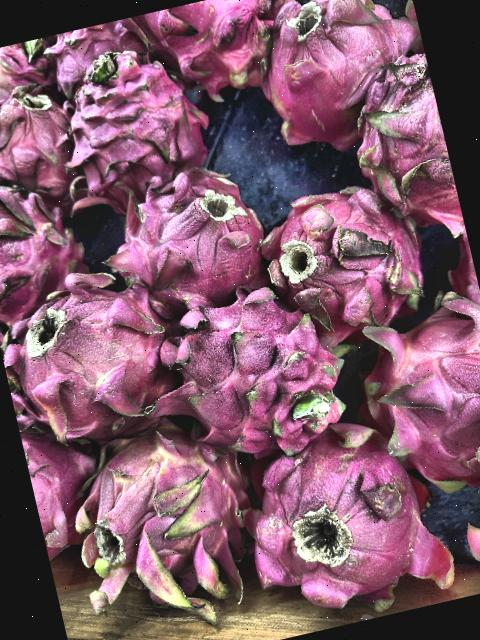buah-naga-belum-matang: (59, 404, 276, 628), (0, 36, 58, 117)
buah-naga-matang: (242, 410, 462, 634), (154, 264, 363, 476), (0, 255, 195, 451), (244, 152, 434, 346), (330, 286, 480, 495), (90, 158, 270, 322), (254, 0, 435, 148), (48, 41, 212, 198), (350, 47, 468, 255), (0, 148, 99, 323), (144, 0, 304, 101), (18, 410, 109, 552), (45, 12, 160, 84), (0, 84, 71, 197)
